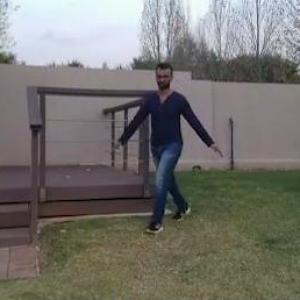land: (110, 51, 227, 251)
